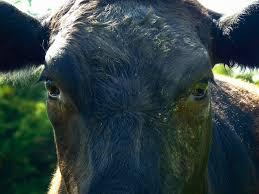cow: (1, 0, 259, 194)
